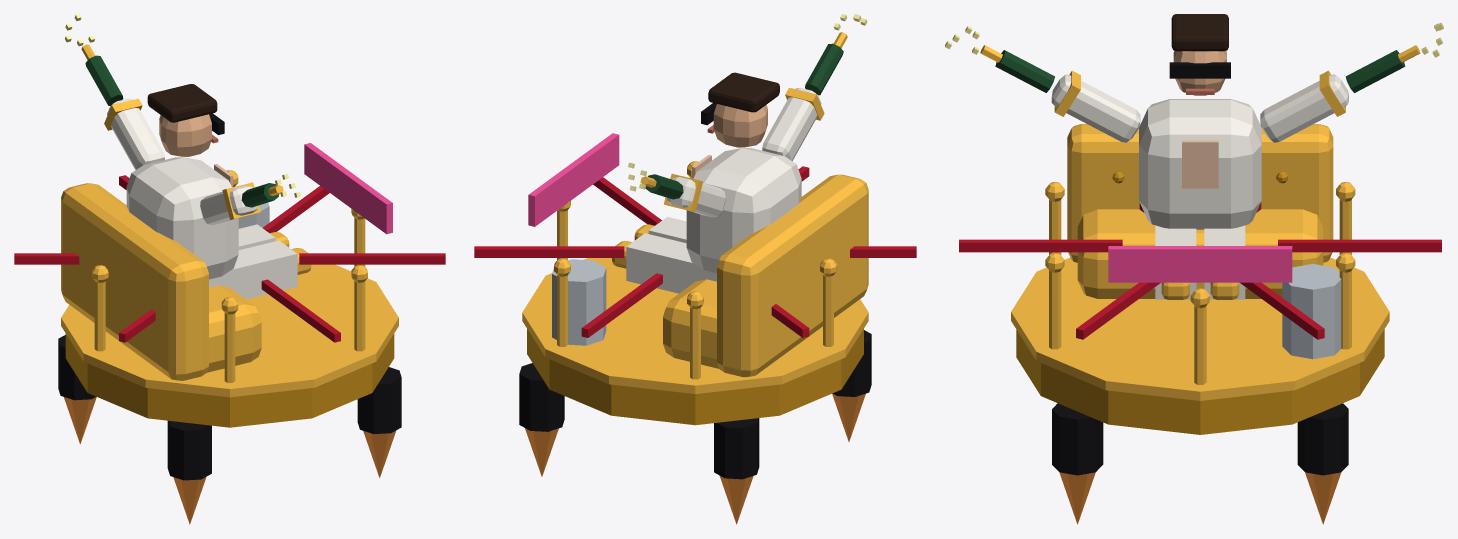
File: magnat_vip.glb
3 renders of one model, left to right at view 1: azimuth 30°, elevation 25°; view 2: azimuth 150°, elevation 25°; view 3: azimuth 270°, elevation 25°, orthographic. The views are drawn at different scales.
Parts seen in each view (by area): view 1: p_rbox.1499, p_cyl.1019, p_cyl.1018, p_rbox.1500, p_box.5108, p_box.5110, p_rbox.1498, p_cyl.1030, p_cyl.1028, p_rbox.1506, p_rbox.1504, p_rbox.1503 (+16 smaller); view 2: p_rbox.1499, p_cyl.1019, p_cyl.1018, p_rbox.1500, p_box.5108, p_box.5111, p_cyl.1026, p_rbox.1498, p_cyl.1029, p_cyl.1027, p_rbox.1505, p_rbox.1504 (+17 smaller); view 3: p_cyl.1019, p_rbox.1500, p_cyl.1018, p_rbox.1499, p_rbox.1498, p_box.5108, p_cyl.1026, p_cyl.1028, p_cyl.1027, p_rbox.1505, p_rbox.1506, p_box.5103 (+16 smaller).
Boxes of the visible parts, x1=… form: p_rbox.1499: x1=61, y1=183, x2=208, y2=380; p_cyl.1019: x1=61, y1=264, x2=398, y2=397; p_cyl.1018: x1=65, y1=334, x2=394, y2=427; p_rbox.1500: x1=126, y1=157, x2=238, y2=279; p_box.5108: x1=304, y1=143, x2=392, y2=234; p_box.5110: x1=209, y1=240, x2=297, y2=299; p_rbox.1498: x1=207, y1=285, x2=261, y2=372; p_cyl.1030: x1=167, y1=420, x2=211, y2=480; p_cyl.1028: x1=357, y1=367, x2=401, y2=433; p_rbox.1506: x1=107, y1=98, x2=164, y2=169; p_rbox.1504: x1=147, y1=84, x2=217, y2=122; p_rbox.1503: x1=159, y1=114, x2=211, y2=156; p_rbox.1499: x1=717, y1=174, x2=868, y2=377; p_cyl.1019: x1=522, y1=258, x2=868, y2=393; p_cyl.1018: x1=527, y1=329, x2=863, y2=425; p_rbox.1500: x1=686, y1=148, x2=801, y2=273; p_box.5108: x1=528, y1=133, x2=619, y2=226; p_box.5111: x1=626, y1=233, x2=716, y2=293; p_cyl.1026: x1=552, y1=259, x2=606, y2=345; p_rbox.1498: x1=663, y1=279, x2=718, y2=368; p_cyl.1029: x1=714, y1=418, x2=759, y2=479; p_cyl.1027: x1=519, y1=363, x2=564, y2=431; p_rbox.1505: x1=762, y1=88, x2=821, y2=161; p_rbox.1504: x1=708, y1=72, x2=779, y2=112; p_cyl.1019: x1=1011, y1=257, x2=1389, y2=400; p_rbox.1500: x1=1139, y1=99, x2=1261, y2=229; p_cyl.1018: x1=1016, y1=329, x2=1384, y2=434; p_rbox.1499: x1=1067, y1=124, x2=1333, y2=262; p_rbox.1498: x1=1077, y1=209, x2=1323, y2=298; p_box.5108: x1=1108, y1=246, x2=1292, y2=282; p_cyl.1026: x1=1282, y1=264, x2=1341, y2=359; p_cyl.1028: x1=1052, y1=403, x2=1103, y2=475; p_cyl.1027: x1=1297, y1=403, x2=1348, y2=475; p_rbox.1505: x1=1051, y1=74, x2=1140, y2=142; p_rbox.1506: x1=1260, y1=74, x2=1348, y2=142; p_box.5103: x1=1278, y1=239, x2=1441, y2=252.
Bounding box in the file's own units: 2.06 × 2.29 × 2.44.
